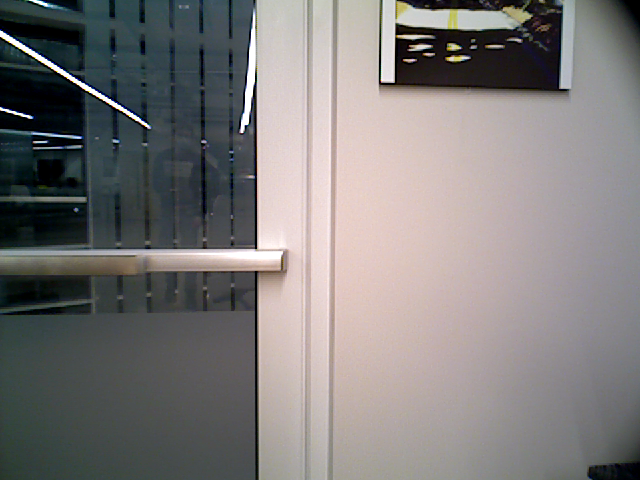painting3: (382, 1, 570, 88)
